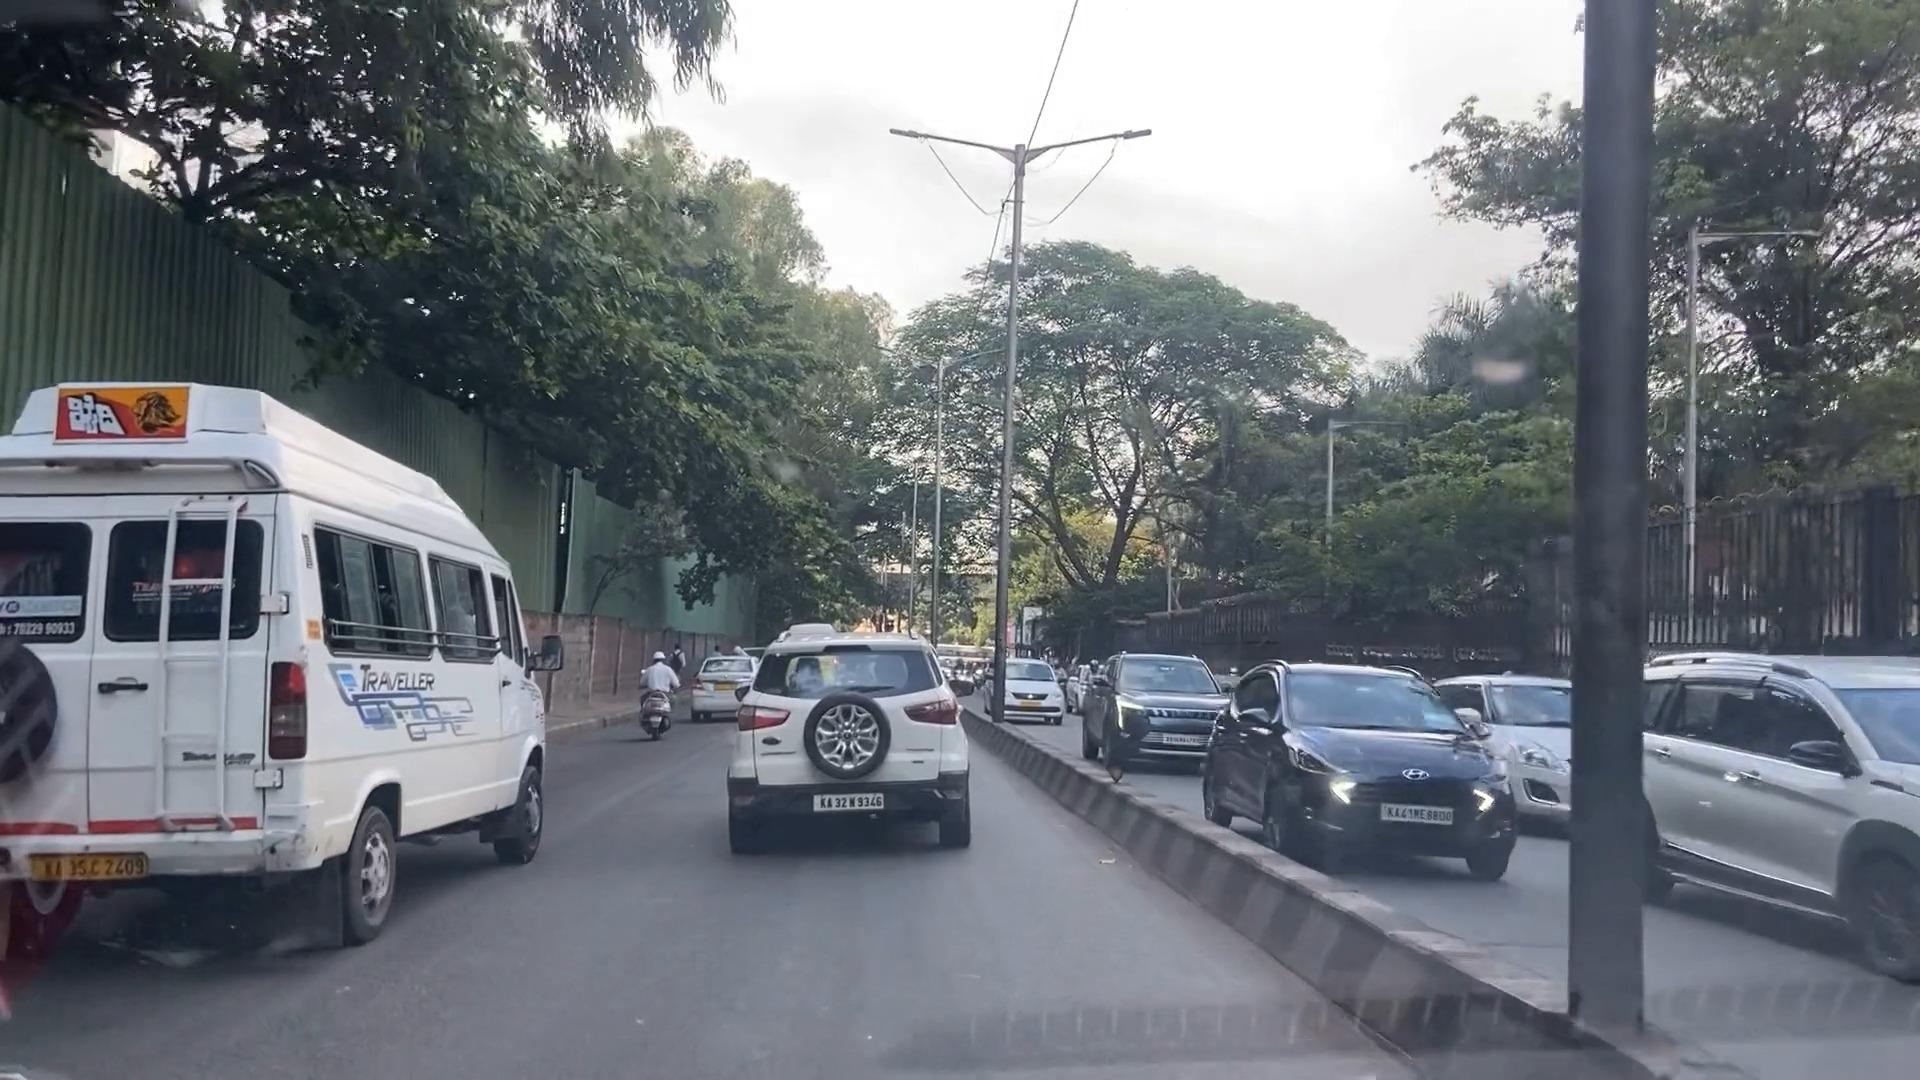HMV: (0, 393, 550, 935)
LMV: (733, 608, 977, 852)
